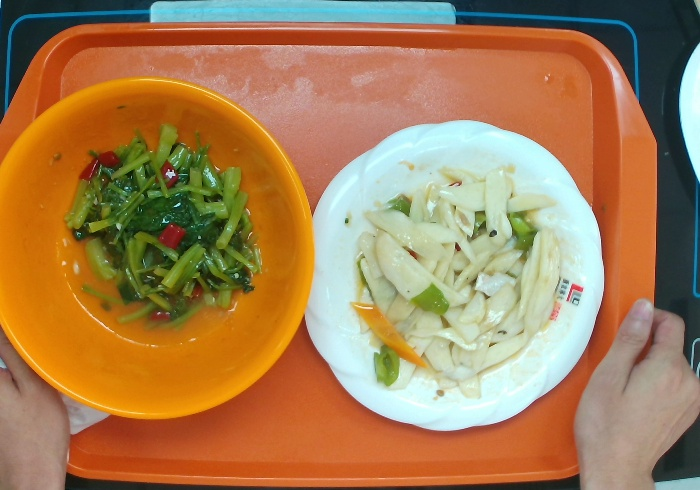ZNLD-Hua_Bian_Wan: (299, 114, 609, 435)
ZNLD-Ju_Se_Tang_Wan: (1, 72, 319, 422)
